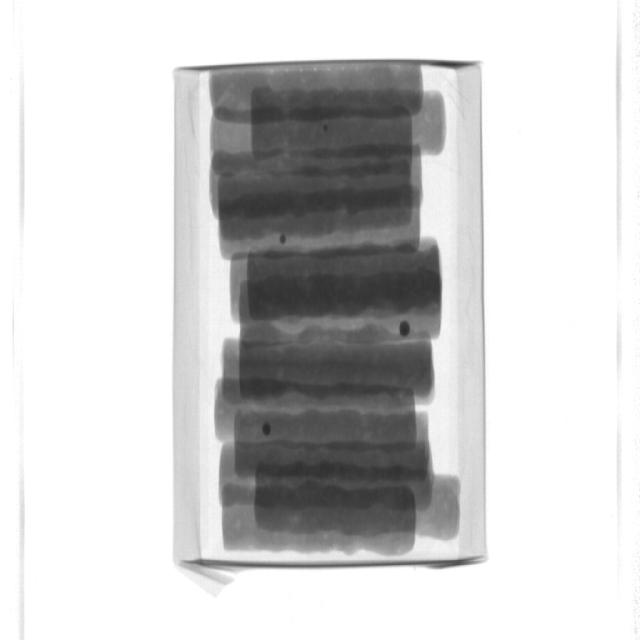ym: (400, 321, 411, 338), (264, 422, 274, 437), (280, 235, 288, 245), (324, 124, 329, 130)
